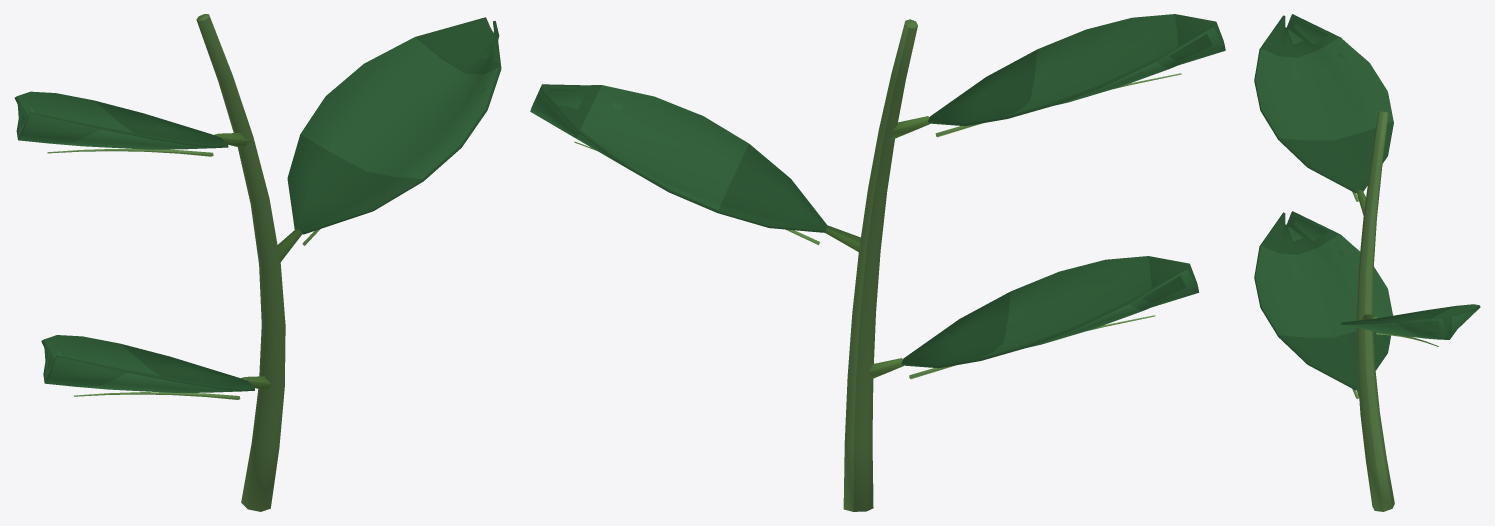
Rendered from garden-orchid-leaves-stem-0.glb.
3 views of the same model, side by side, from view 1: azimuth 30°, elevation 25°; view 2: azimuth 150°, elevation 25°; view 3: azimuth 270°, elevation 25° (orthographic). The views are drawn at different scales.
Visible parts, largest first — view 1: orchid-leaves-stem-0; view 2: orchid-leaves-stem-0; view 3: orchid-leaves-stem-0.
Part boxes in pixels (x1,y1,x2,y2): orchid-leaves-stem-0: (14, 14, 501, 511); orchid-leaves-stem-0: (530, 14, 1225, 511); orchid-leaves-stem-0: (1254, 14, 1480, 511).
Bounding box in the file's own units: 0.3063 × 0.255 × 0.136.
